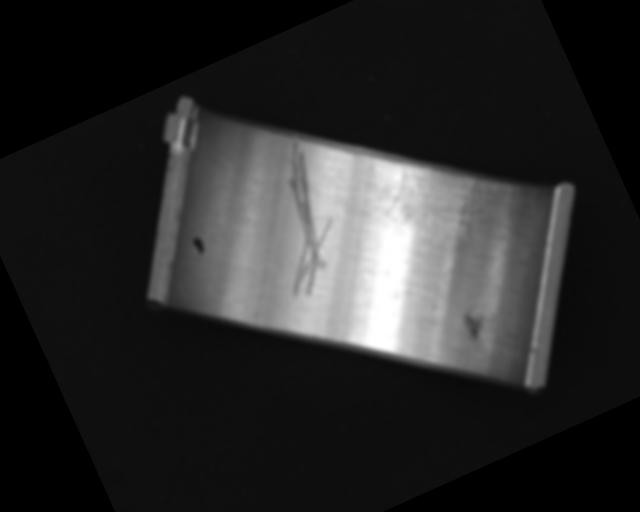blot: (189, 233, 208, 257)
bruise: (459, 306, 489, 341)
nick: (231, 130, 359, 302)
scratch: (360, 128, 523, 272)
